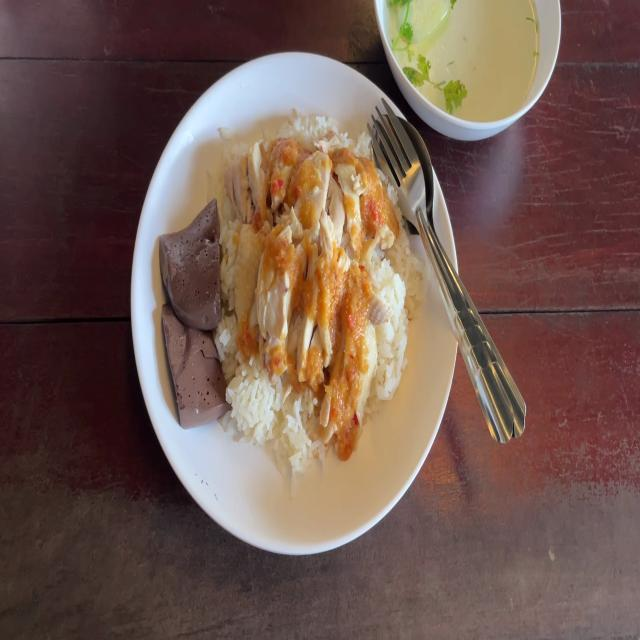boiled_chicken: (223, 147, 377, 360)
boiled_chicken_blood_jelly: (159, 294, 230, 424), (156, 198, 220, 323)
chicken_rice: (160, 121, 410, 456)
